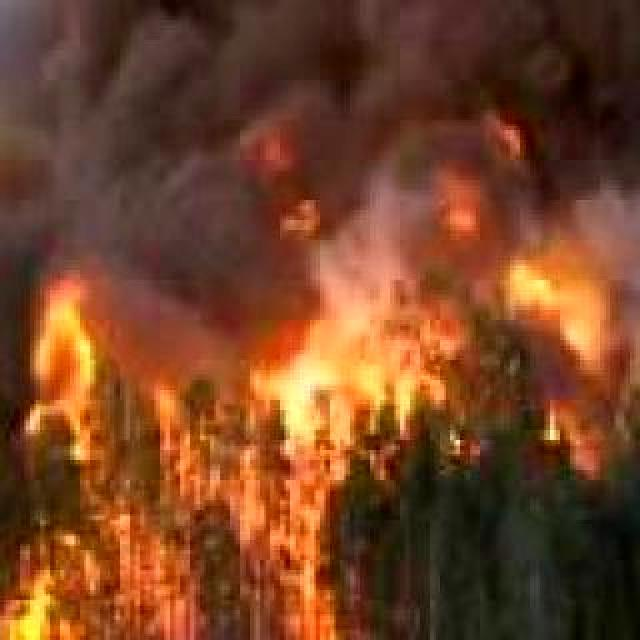fire: (0, 202, 380, 640), (432, 114, 638, 470)
